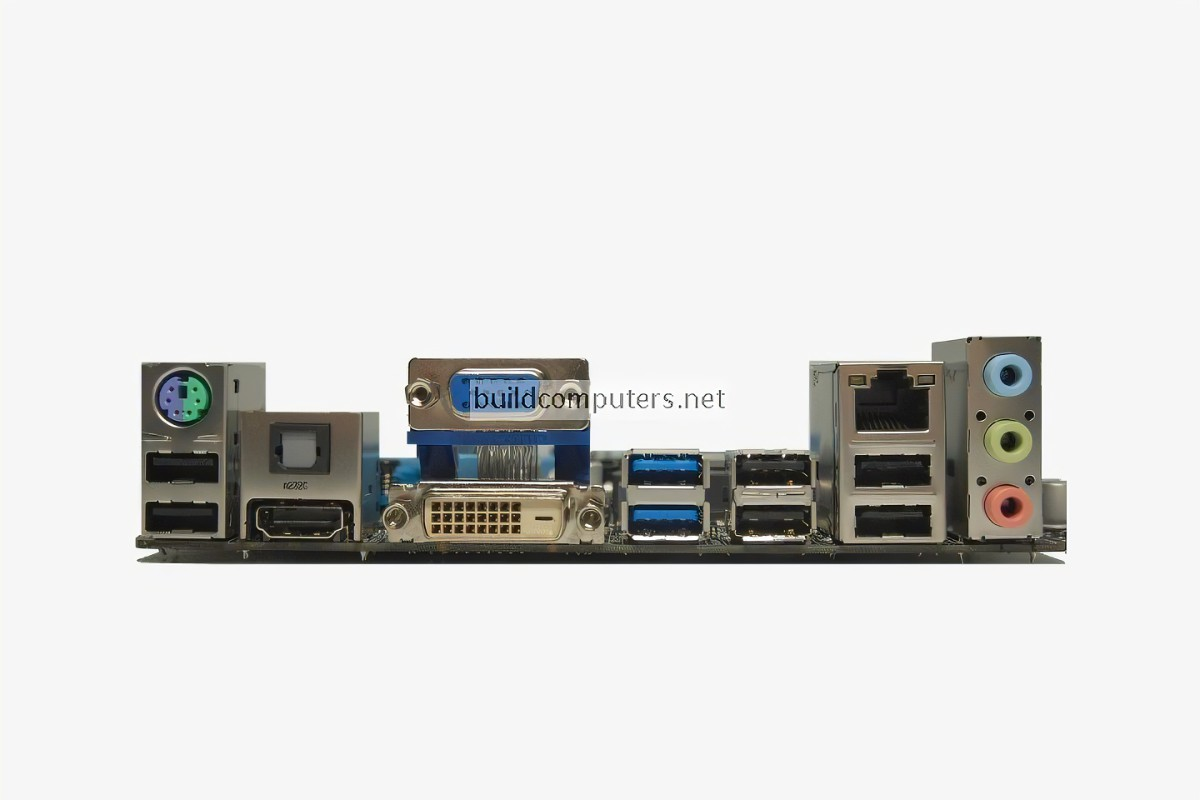Audio: (976, 350, 1036, 406), (975, 479, 1030, 529)
DVI: (422, 491, 567, 546)
Ethernet: (841, 365, 945, 442)
